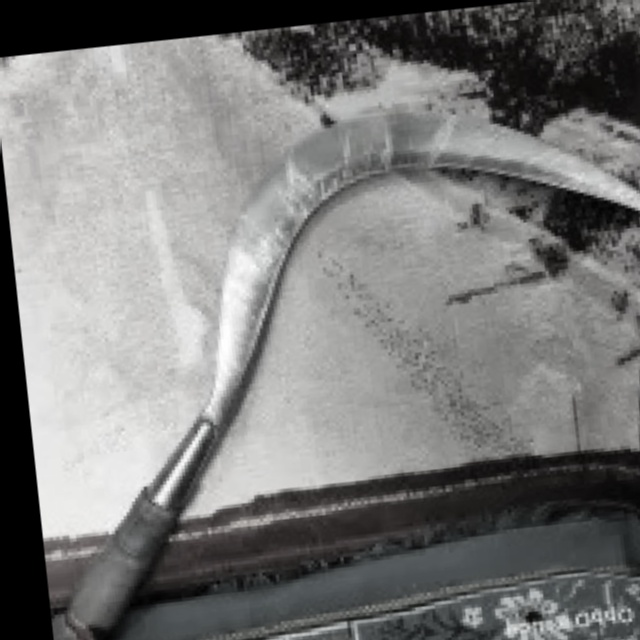Sharp-Object: (0, 67, 640, 640)
